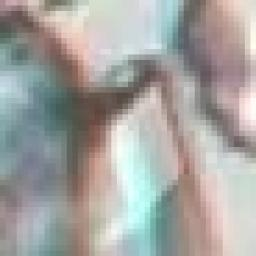crystals: (38, 51, 226, 251)
